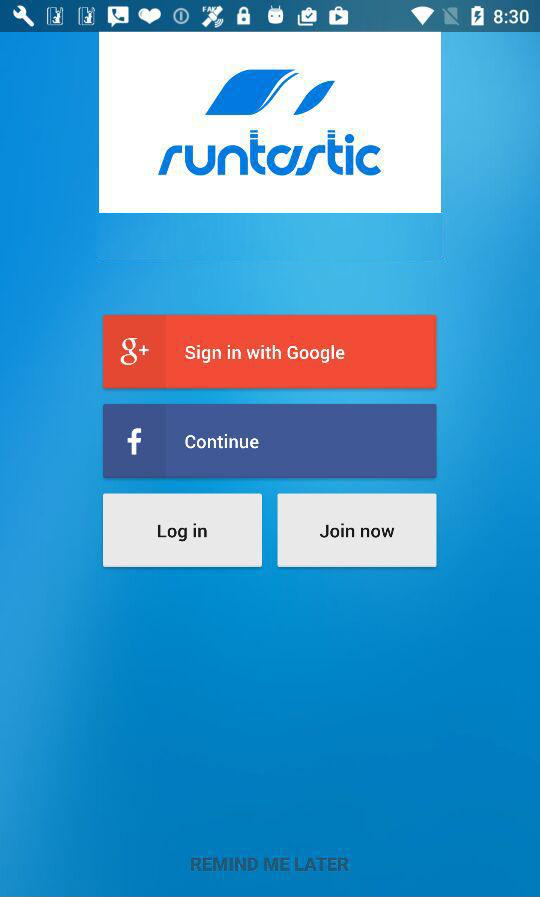Image: (99, 33, 441, 214)
Text: (191, 856, 350, 872)
TextButton: (103, 404, 437, 480), (103, 314, 437, 390), (103, 492, 264, 568), (277, 493, 438, 568)
UpperTaskBar: (1, 1, 540, 33)
